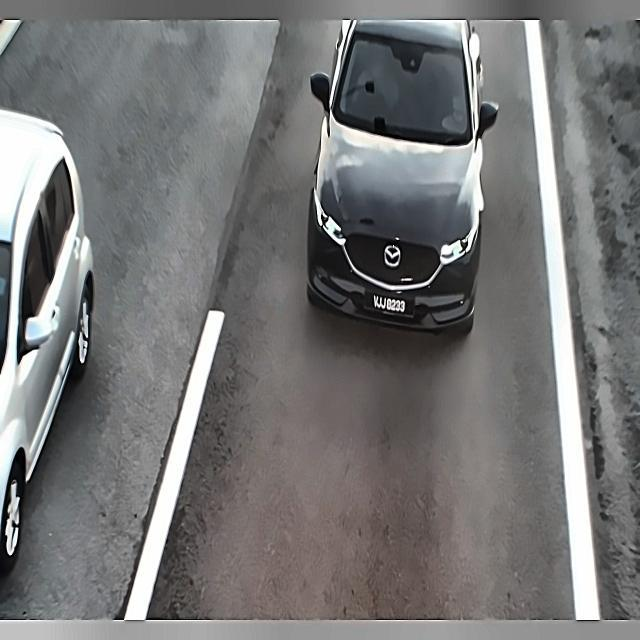car: (360, 284, 418, 321)
